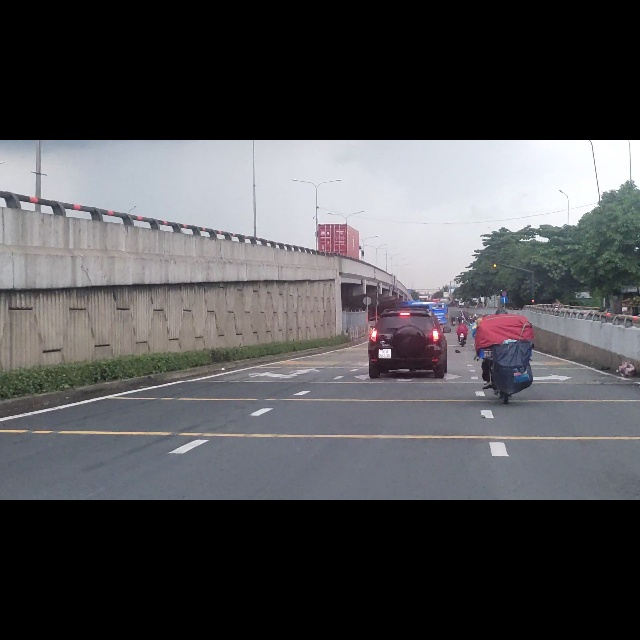bien_cam: (501, 277, 508, 290)
